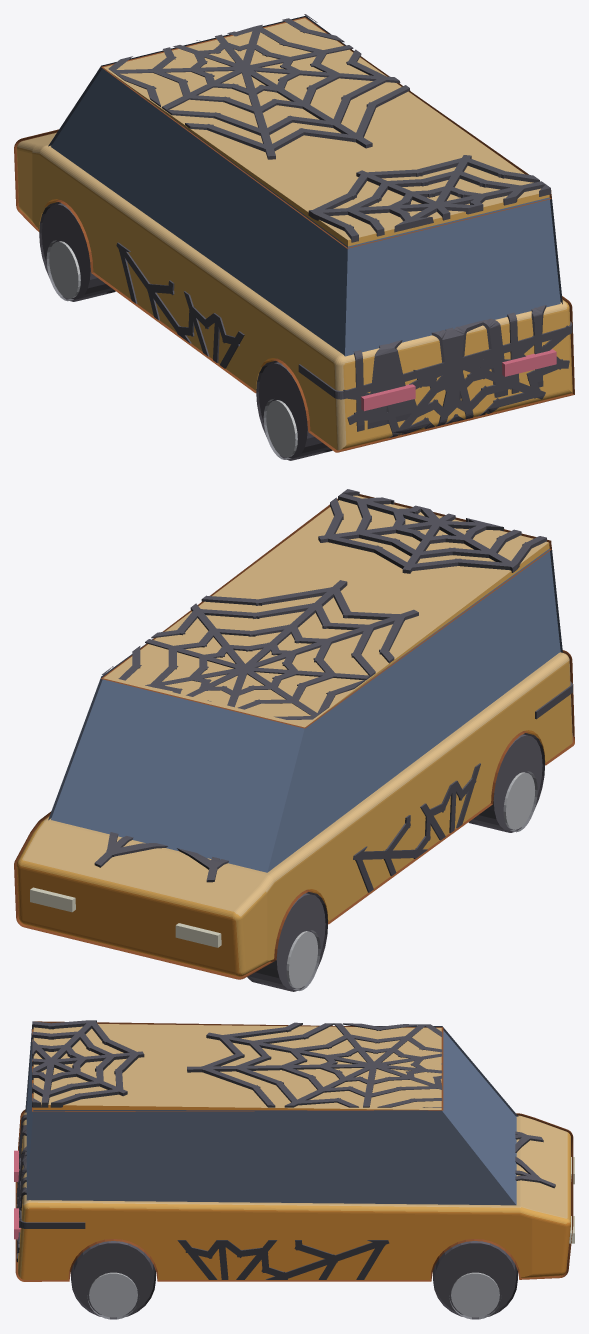
File: car_van.glb
3 renders of one model, top to bottom at view 1: azimuth 30°, elevation 25°; view 2: azimuth 150°, elevation 25°; view 3: azimuth 270°, elevation 25°, orthographic. The views are drawn at different scales.
Visible parts, largest first — view 1: car; view 2: car; view 3: car.
Part boxes in pixels (box(x1,y1,x2,y2)): car: box(14, 14, 574, 460); car: box(14, 489, 574, 991); car: box(14, 1020, 574, 1319).
Size of the model in its own units: 2.07 by 2.04 by 4.96.
